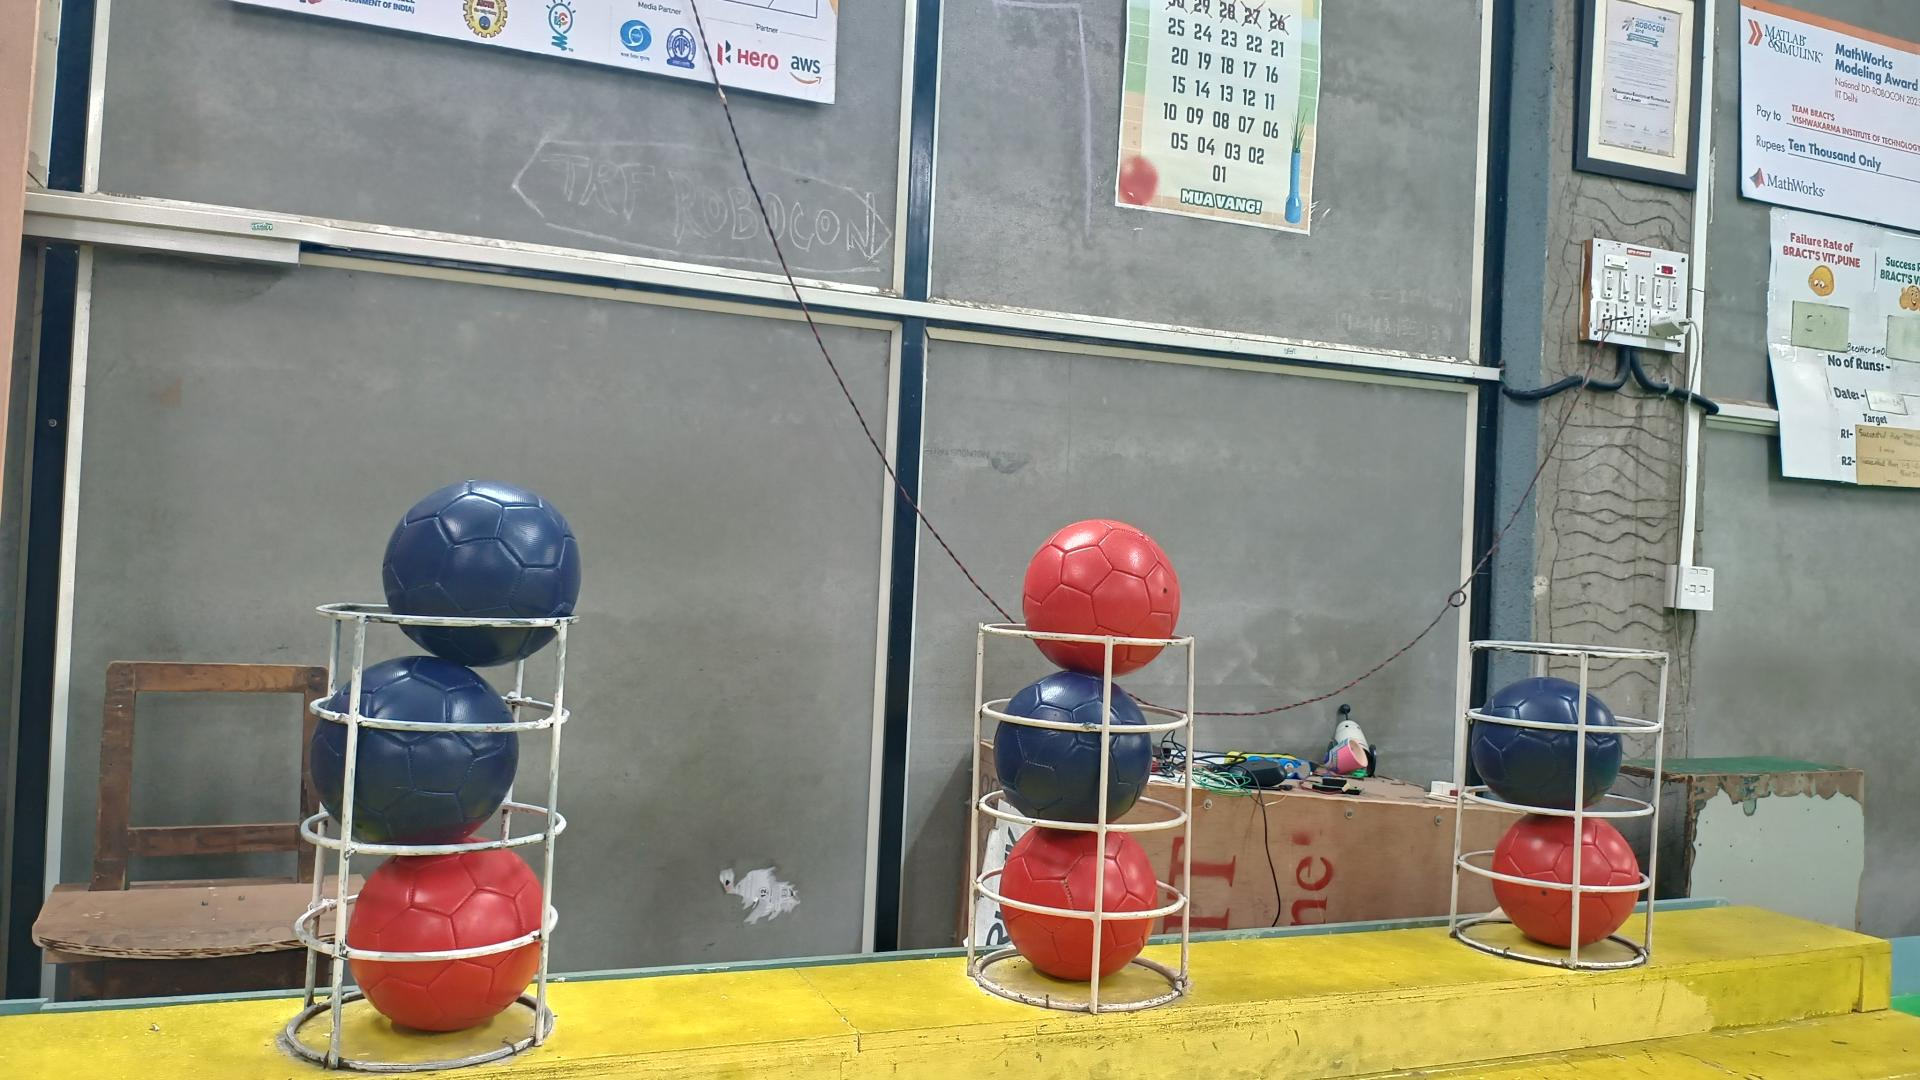dhoka: (311, 657, 517, 844), (382, 480, 582, 667), (994, 671, 1151, 825), (1470, 675, 1623, 814)
laale: (345, 852, 543, 1031), (1021, 517, 1182, 679), (997, 825, 1163, 982), (1493, 814, 1643, 948)
